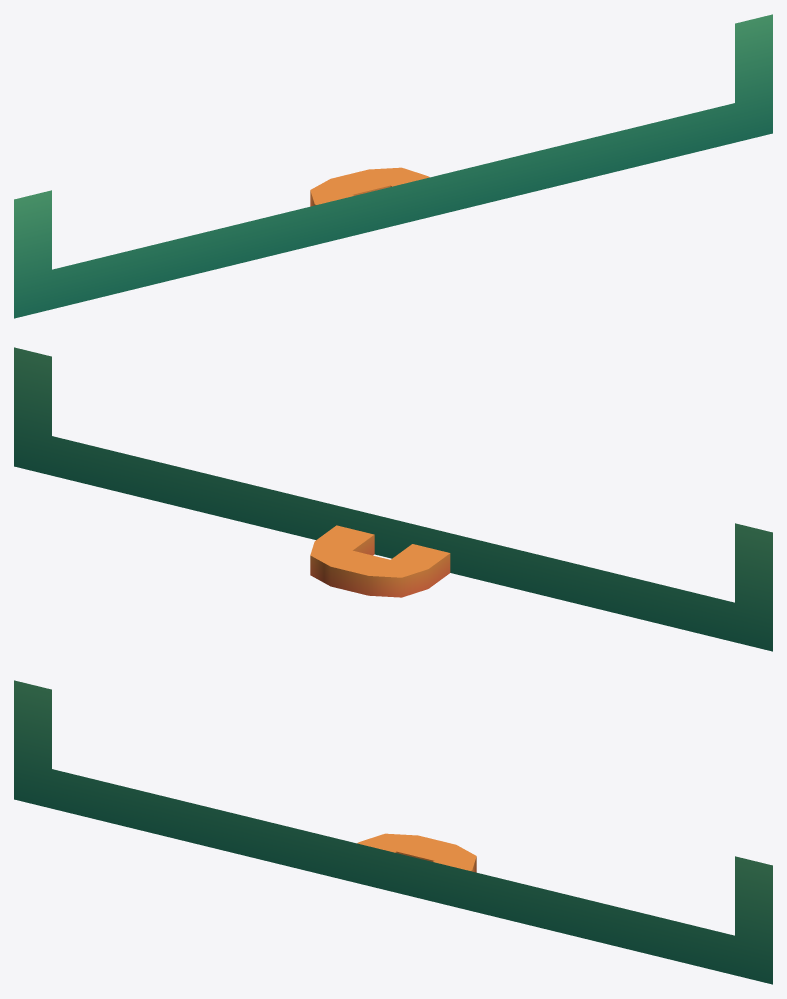
File: track-wide-cap-front.fbx
3 renders of one model, top to bottom at view 1: azimuth 30°, elevation 25°; view 2: azimuth 150°, elevation 25°; view 3: azimuth 330°, elevation 25°, orthographic.
Visible parts, largest first — view 1: track-wide-cap-front; view 2: track-wide-cap-front; view 3: track-wide-cap-front.
Boxes of the visible parts, box(x1,y1,x2,y2) form: track-wide-cap-front: box(14, 14, 772, 318); track-wide-cap-front: box(14, 347, 772, 651); track-wide-cap-front: box(14, 680, 772, 984).
Bounding box in the file's own units: 200 × 30 × 20.
